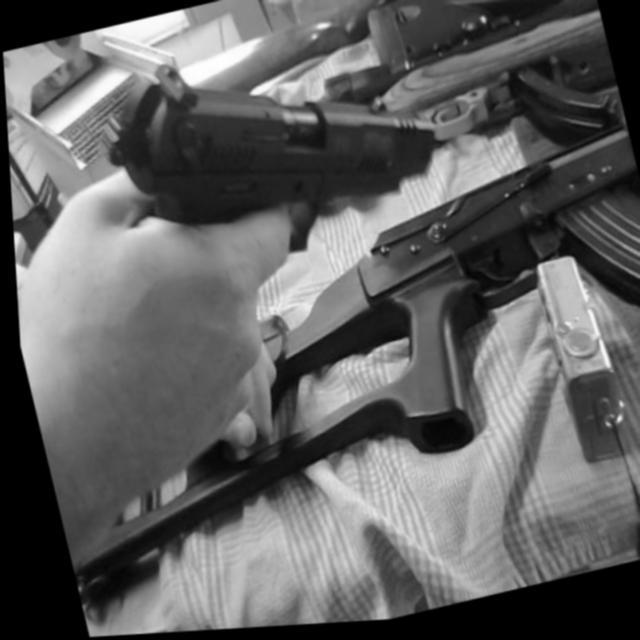weapon: (8, 136, 640, 606), (85, 2, 439, 272), (176, 0, 599, 106), (344, 20, 616, 143)
